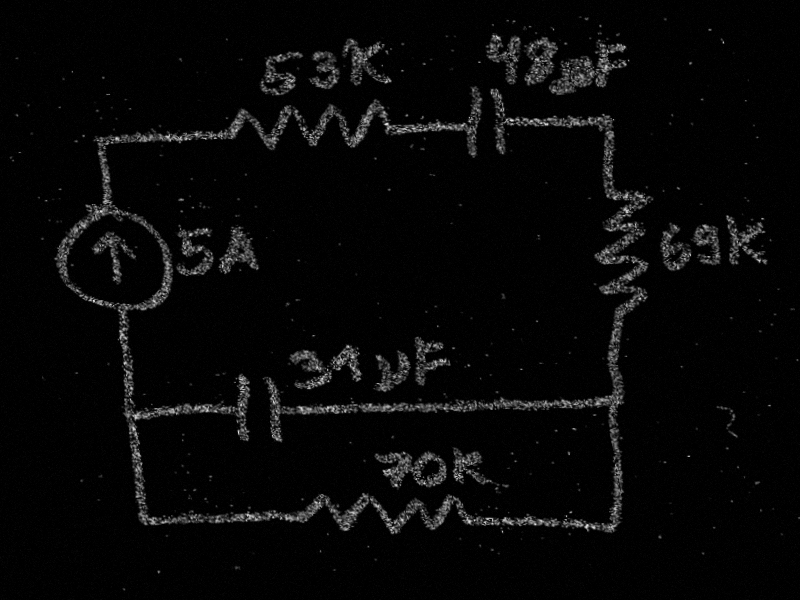0: (408, 451, 451, 489)
1: (326, 340, 369, 386)
3: (282, 347, 337, 392), (304, 49, 344, 92)
4: (479, 29, 528, 87)
5: (169, 224, 220, 278), (253, 51, 311, 97)
6: (652, 222, 698, 274)
7: (369, 448, 419, 493)
8: (517, 39, 564, 84)
9: (688, 222, 728, 268)
A: (212, 225, 262, 275)
F: (408, 334, 456, 389), (591, 39, 634, 89)
k: (337, 32, 396, 90), (718, 210, 774, 271), (448, 443, 492, 488)
u: (368, 349, 416, 392), (556, 57, 598, 94)
